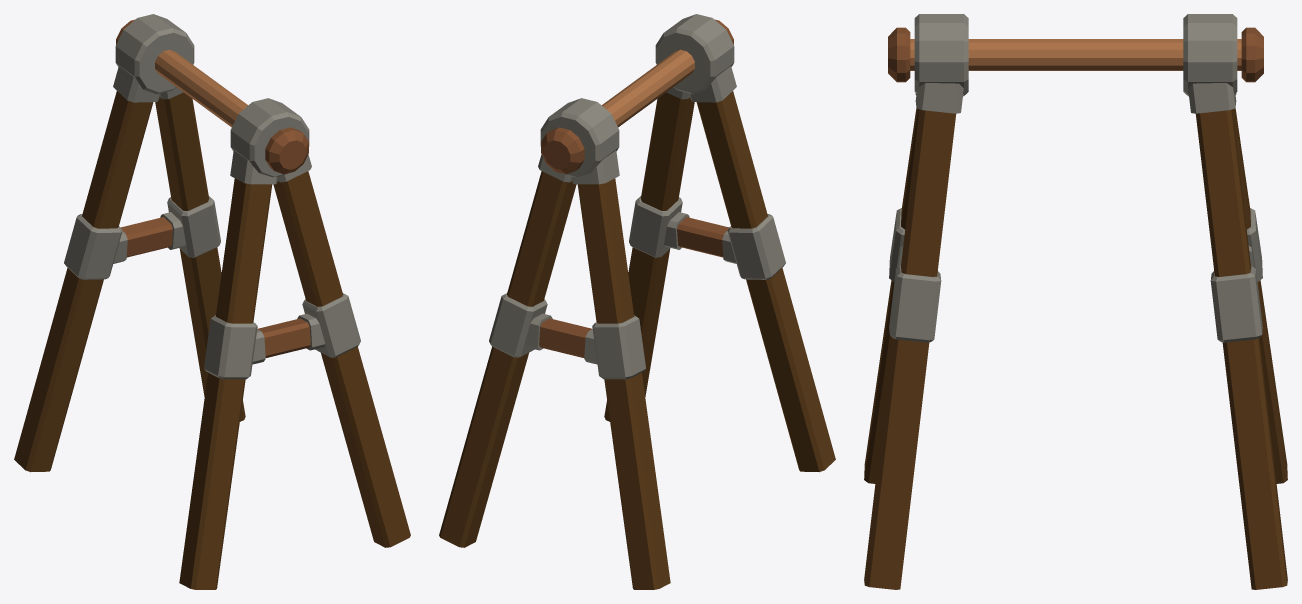
The model's file is Prop_Obstacle_Hammer_Housing_Single.obj.
3 renders of one model, left to right at view 1: azimuth 30°, elevation 25°; view 2: azimuth 150°, elevation 25°; view 3: azimuth 270°, elevation 25°, orthographic. The views are drawn at different scales.
Parts seen in each view (by area): view 1: Frame_Support_Beam, Frame_Support_Brace, Hammer_Swing_Brace, Frame_Support_Crossbeam, Hammer_Swing_Bar, Hammer_Swing_Bar_Endcap; view 2: Frame_Support_Beam, Frame_Support_Brace, Hammer_Swing_Brace, Frame_Support_Crossbeam, Hammer_Swing_Bar, Hammer_Swing_Bar_Endcap; view 3: Frame_Support_Beam, Hammer_Swing_Brace, Frame_Support_Brace, Hammer_Swing_Bar, Hammer_Swing_Bar_Endcap.
Part boxes in pixels (x1,y1,x2,y2): Frame_Support_Beam: (14, 91, 410, 589); Frame_Support_Brace: (64, 196, 360, 379); Hammer_Swing_Brace: (113, 14, 311, 184); Frame_Support_Crossbeam: (121, 217, 310, 357); Hammer_Swing_Bar: (155, 49, 247, 127); Hammer_Swing_Bar_Endcap: (116, 19, 308, 174); Frame_Support_Beam: (439, 91, 835, 589); Frame_Support_Brace: (489, 196, 785, 379); Hammer_Swing_Brace: (538, 14, 736, 184); Frame_Support_Crossbeam: (539, 217, 728, 357); Hammer_Swing_Bar: (602, 49, 694, 127); Hammer_Swing_Bar_Endcap: (541, 19, 733, 174); Frame_Support_Beam: (864, 108, 1287, 589); Hammer_Swing_Brace: (914, 14, 1237, 113); Frame_Support_Brace: (889, 208, 1262, 342); Hammer_Swing_Bar: (910, 39, 1241, 70); Hammer_Swing_Bar_Endcap: (888, 27, 1263, 82).
Size of the model in its own units: 2.49 by 4.76 by 3.55.
